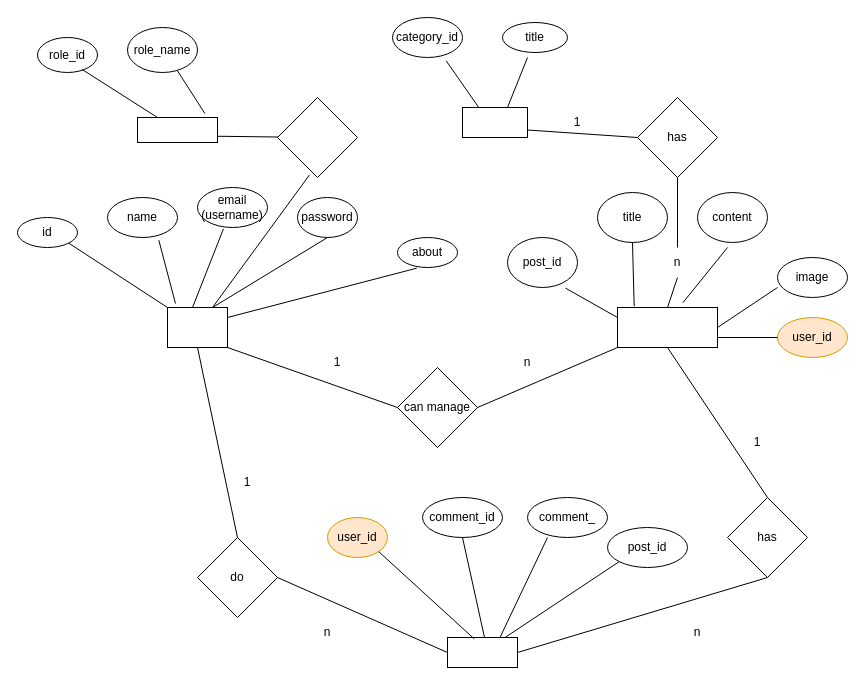
This 865x685 diagram has some shape labels left out. The centre of each missing label's shape, as x and y in pixels:
"Category" goes at [495,122].
"Comment" goes at [482,652].
"Post" goes at [667,327].
"Role" goes at [177,129].
"User" goes at [197,327].
